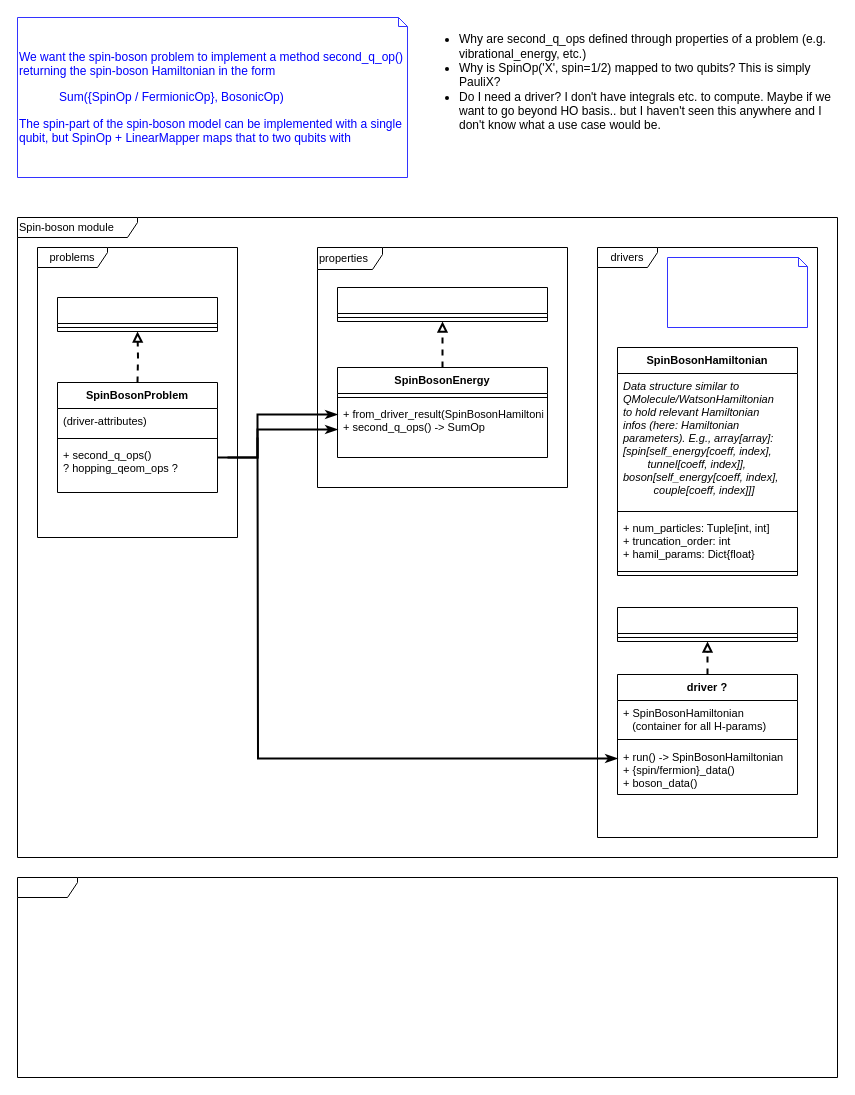
Image size: 855x1095. Some labels were removed from this diagram. Each missing label, with the centre of its shape:
"BaseProblem" belongs at (137,314).
"BosonicDriver ?" belongs at (707,624).
"mapper ?" belongs at (427,977).
"SecondQuantizedProperty" belongs at (442,304).
"to supply coefficients for H-terms? No need to compute integrals of any kind.." belongs at (737,292).
